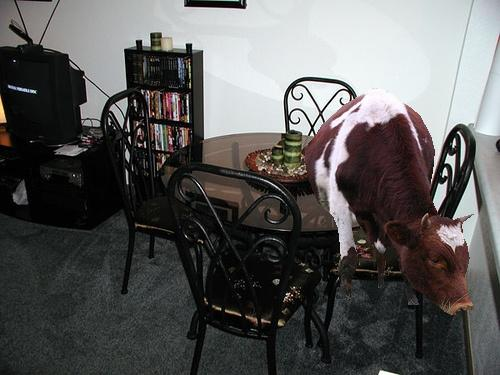tampered: (306, 89, 474, 315)
